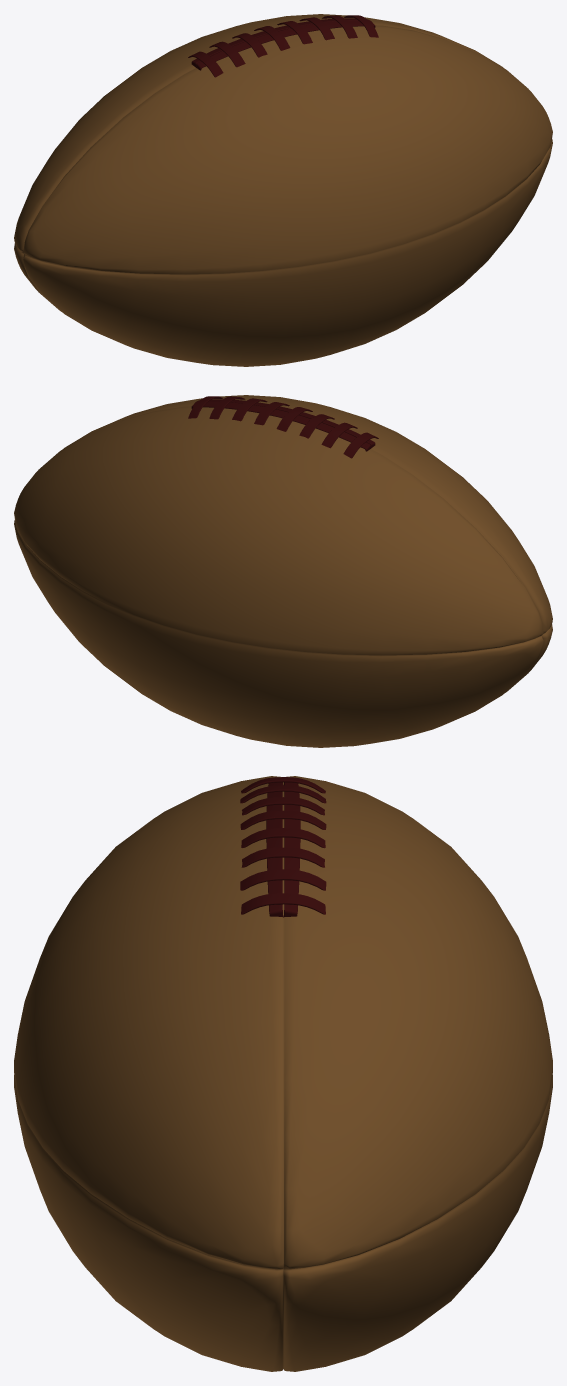
File: american_football_ball.glb
3 renders of one model, top to bottom at view 1: azimuth 30°, elevation 25°; view 2: azimuth 150°, elevation 25°; view 3: azimuth 270°, elevation 25°, orthographic. The views are drawn at different scales.
Parts seen in each view (by area): view 1: football_mesh_3, small_laces_mesh_4, big_laces_mesh_2; view 2: football_mesh_3, small_laces_mesh_4, big_laces_mesh_2; view 3: football_mesh_3, small_laces_mesh_4, big_laces_mesh_2.
Boxes of the visible parts, x1,y1,x2,y2 form: football_mesh_3: [14, 14, 552, 366]; small_laces_mesh_4: [188, 15, 378, 77]; big_laces_mesh_2: [191, 18, 375, 70]; football_mesh_3: [14, 395, 552, 747]; small_laces_mesh_4: [188, 396, 378, 458]; big_laces_mesh_2: [191, 399, 375, 451]; football_mesh_3: [14, 776, 552, 1371]; small_laces_mesh_4: [240, 777, 326, 914]; big_laces_mesh_2: [266, 782, 300, 917].
Size of the model in its own units: 0.2766 by 0.1614 by 0.1591.
